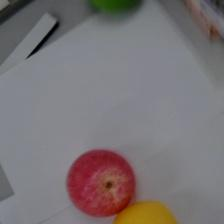red: (66, 147, 138, 216)
yellow: (110, 199, 181, 224)
